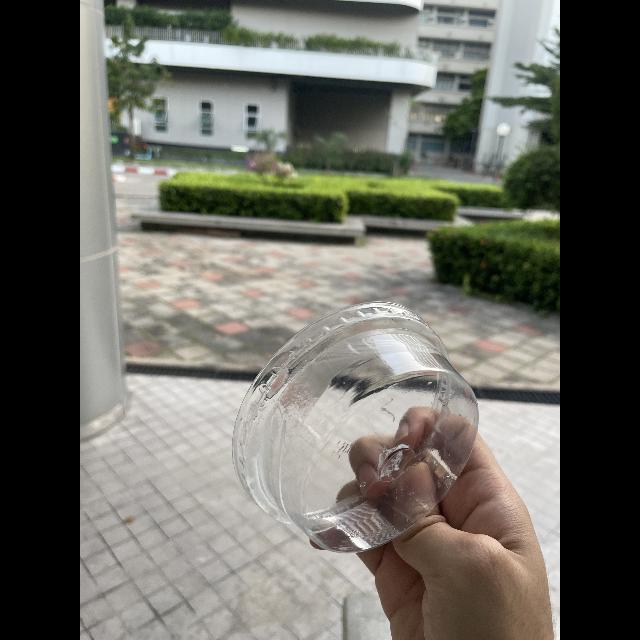plastic_cup_lid: (229, 302, 481, 556)
